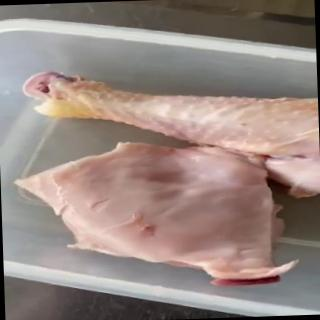Ayam: (13, 135, 302, 294), (22, 61, 320, 208)
